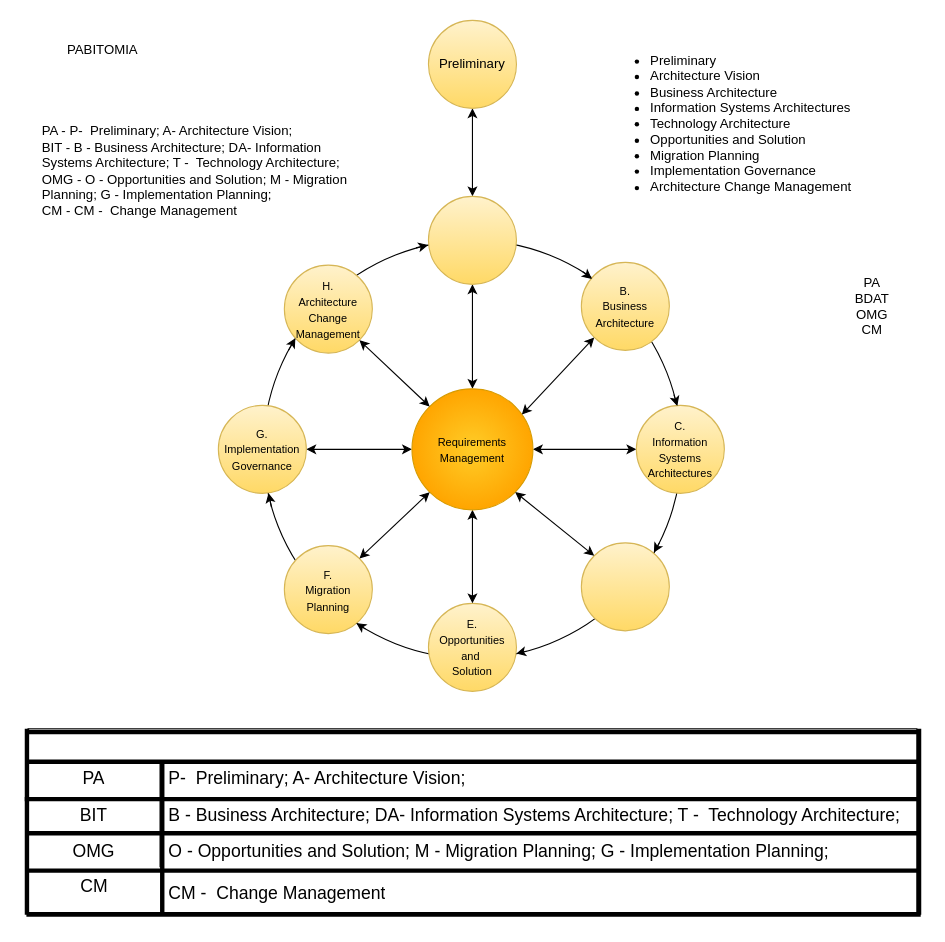
The diagram is 945 pixels wide and 942 high, and some of its shapes have lost their labels. The shapes that lost their labels are listed below. From the top down, each one's box as (x1, y1, x2, y2) in pixels, then its label:
(427, 195, 516, 284): A. Architecture Vision
(580, 542, 669, 631): D. Technology Architecture
(27, 728, 917, 912): Table
